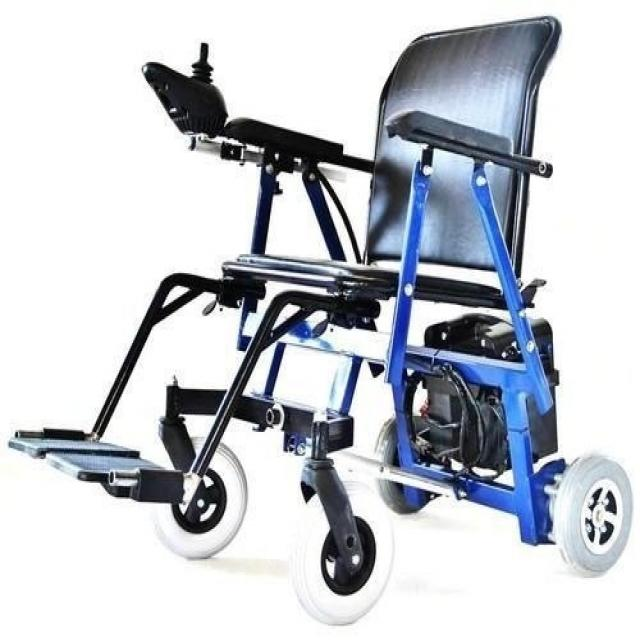wheelchair: (2, 12, 640, 627)
